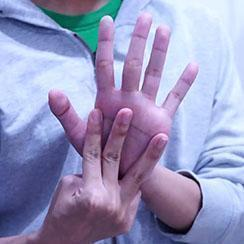M: (26, 5, 216, 244)
